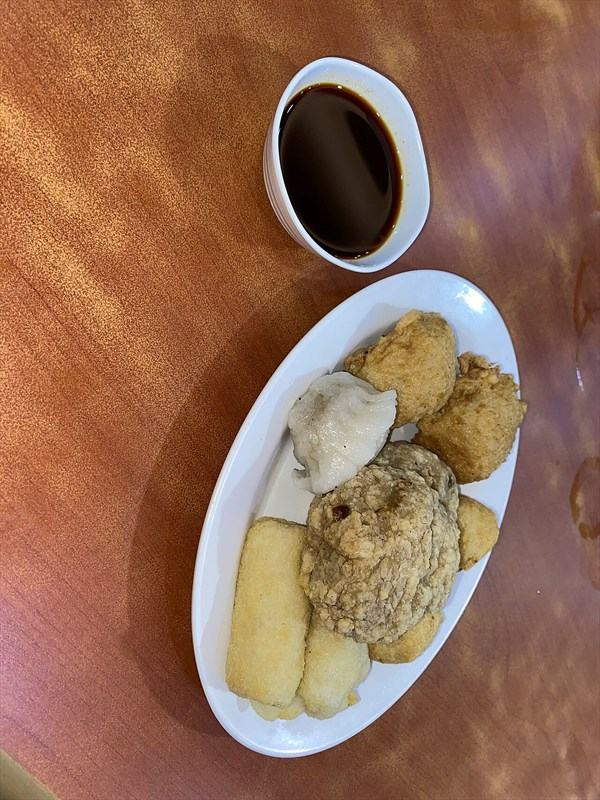Pempek: (174, 52, 516, 761)
